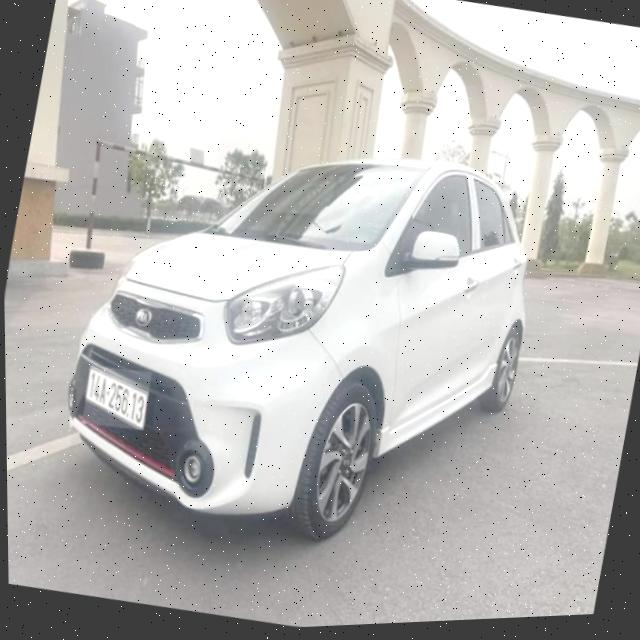car: (40, 95, 566, 601)
plate: (72, 360, 157, 438)
